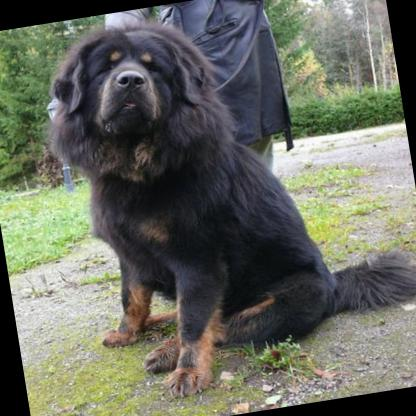Tibetan_mastiff: (40, 0, 416, 410)
